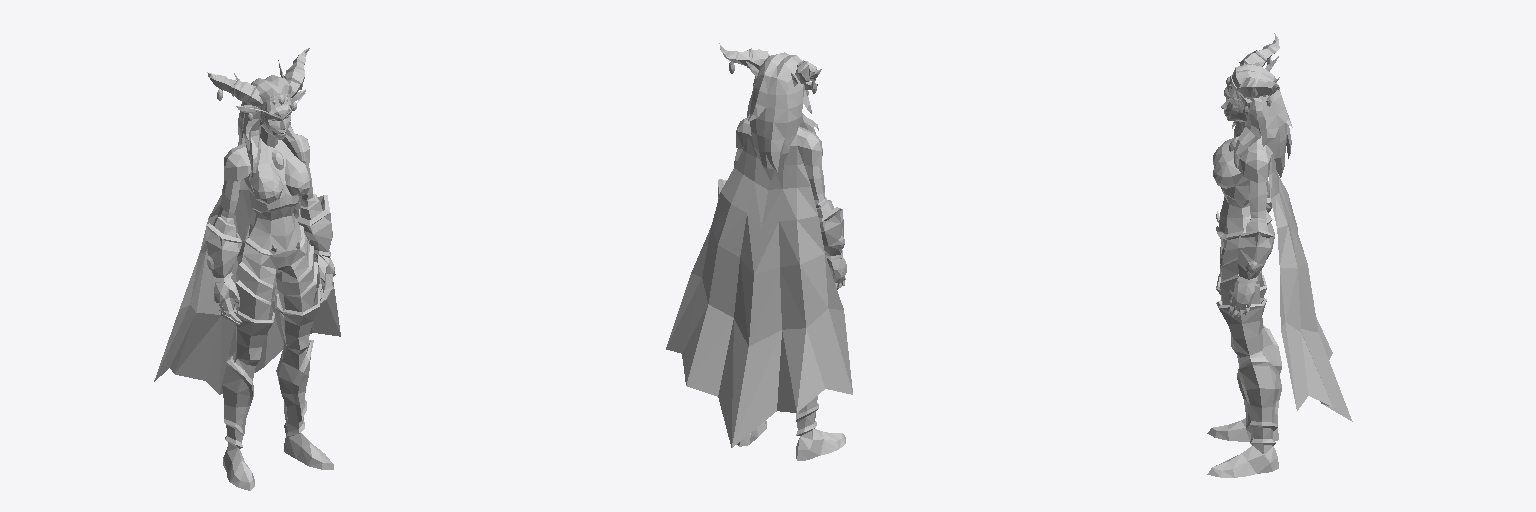
Rendered from ladyalexstrasa.obj.
The picture shows the model from 3 angles: view 1: azimuth 30°, elevation 25°; view 2: azimuth 150°, elevation 25°; view 3: azimuth 270°, elevation 25°; orthographic projection.
Parts seen in each view (by area): view 1: Geoset_000, Geoset_005, Geoset_001, Geoset_003; view 2: Geoset_005, Geoset_001, Geoset_000, Geoset_003; view 3: Geoset_000, Geoset_005, Geoset_001, Geoset_003.
Part boxes in pixels (x1,y1,x2,y2): Geoset_000: (206,60,335,490); Geoset_005: (154,140,340,394); Geoset_001: (224,75,309,181); Geoset_003: (207,48,309,169); Geoset_005: (666,128,852,447); Geoset_001: (736,52,821,180); Geoset_000: (718,61,846,460); Geoset_003: (719,43,821,95); Geoset_000: (1207,56,1281,477); Geoset_005: (1256,136,1352,421); Geoset_001: (1224,64,1292,182); Geoset_003: (1226,33,1279,151).
Size of the model in its own units: 1.01 by 2.03 by 0.6762.